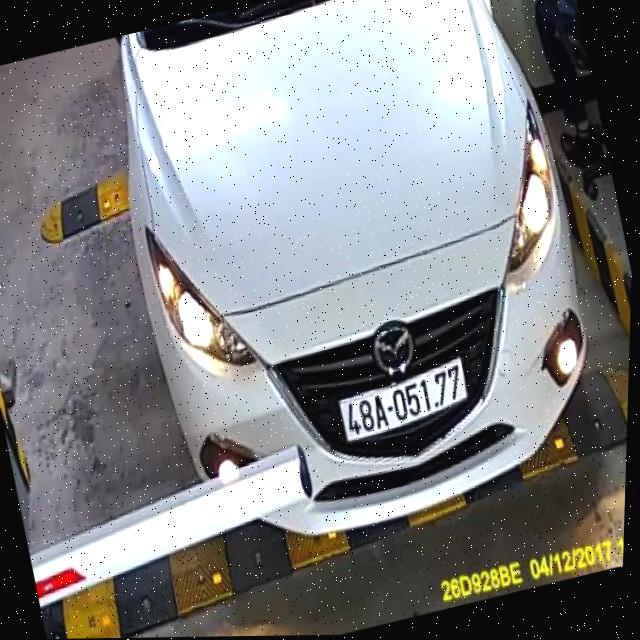car: (72, 0, 640, 578)
plate: (332, 357, 476, 444)
